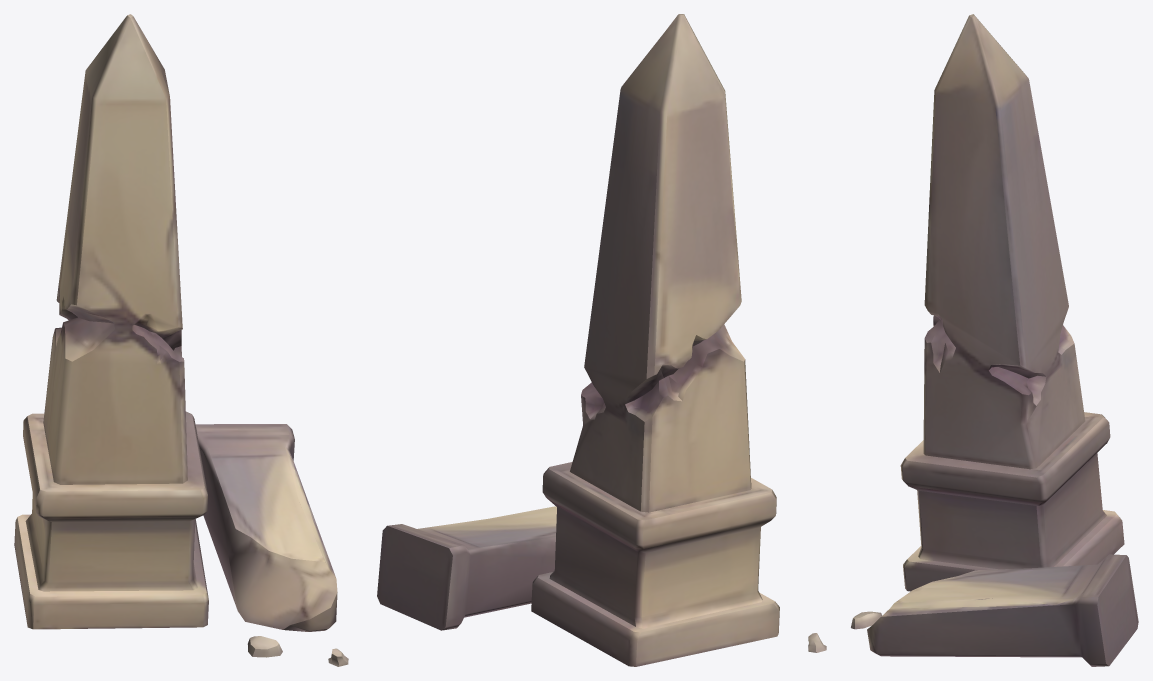
Rendered from SM_RuinObelisk_01.fbx.
3 renders of one model, left to right at view 1: azimuth 30°, elevation 25°; view 2: azimuth 150°, elevation 25°; view 3: azimuth 270°, elevation 25°, orthographic. The views are drawn at different scales.
Visible parts, largest first — view 1: SM_RuinObelisk_01; view 2: SM_RuinObelisk_01; view 3: SM_RuinObelisk_01.
Boxes of the visible parts, x1,y1,x2,y2 form: SM_RuinObelisk_01: (14, 14, 348, 666); SM_RuinObelisk_01: (377, 14, 779, 666); SM_RuinObelisk_01: (808, 14, 1138, 666).
Bounding box in the file's own units: 58.34 × 105 × 54.24.
1 material, 1 textured.
